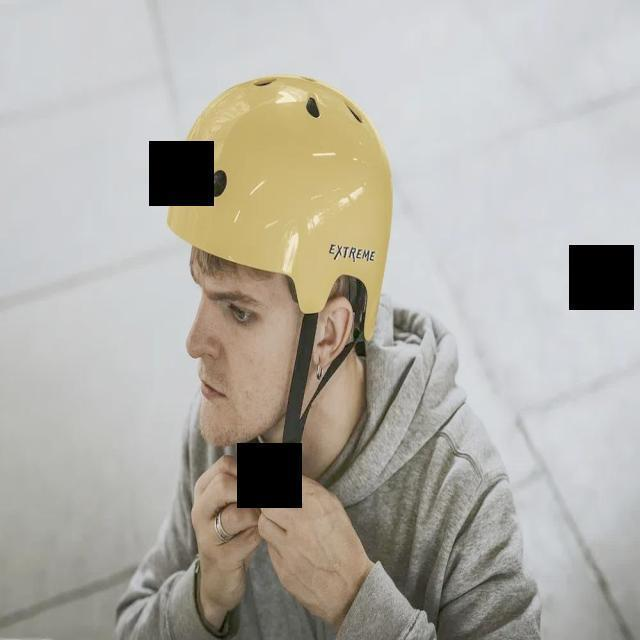helmet: (174, 78, 398, 446)
